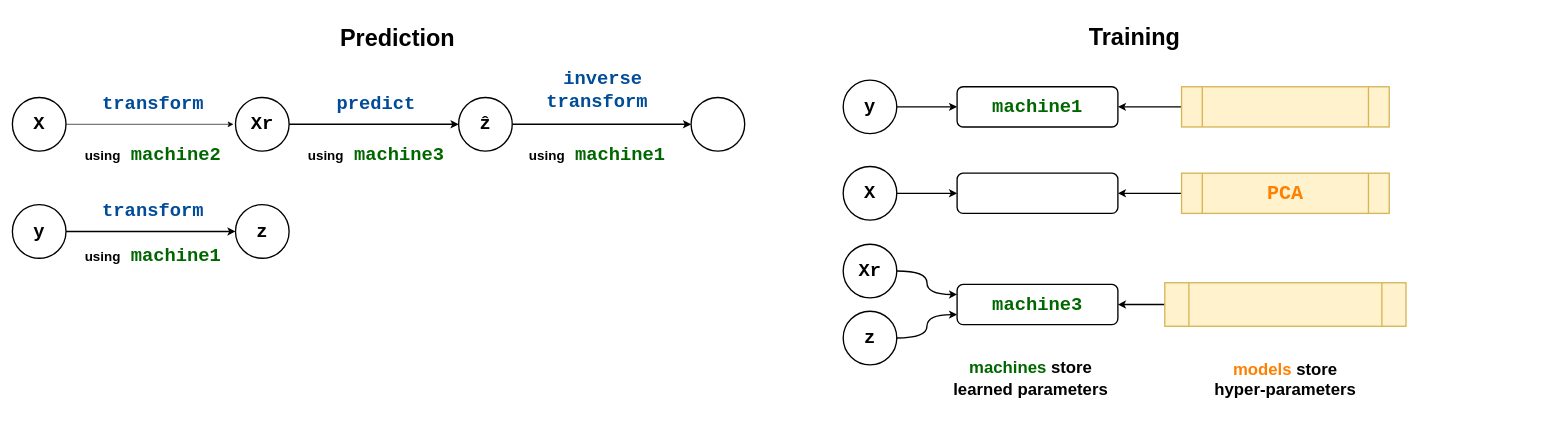
The diagram is 1544 pixels wide and 423 high, and some of its shapes have lost their labels. The shapes that lost their labels are listed below. From the top down, each one's centre as x and y in pixels, then its label:
(x=717, y=123): ŷ
(x=1285, y=106): box_cox
(x=1037, y=193): machine2
(x=1285, y=304): ridge regressor
